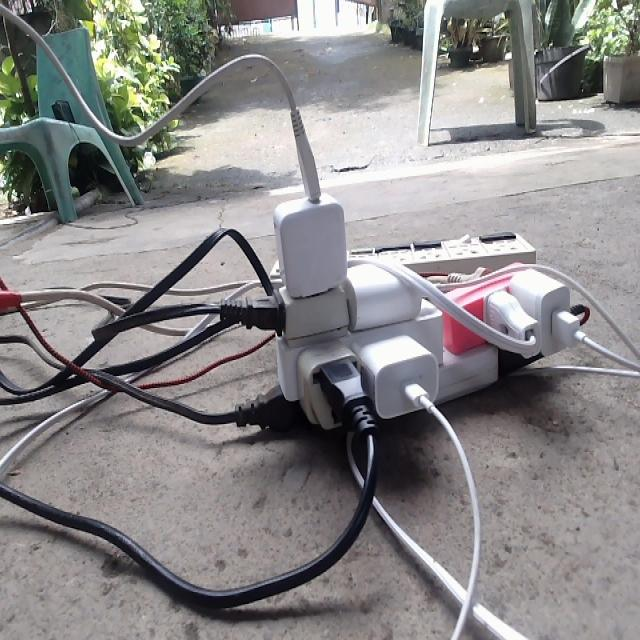-: (223, 177, 580, 432)
